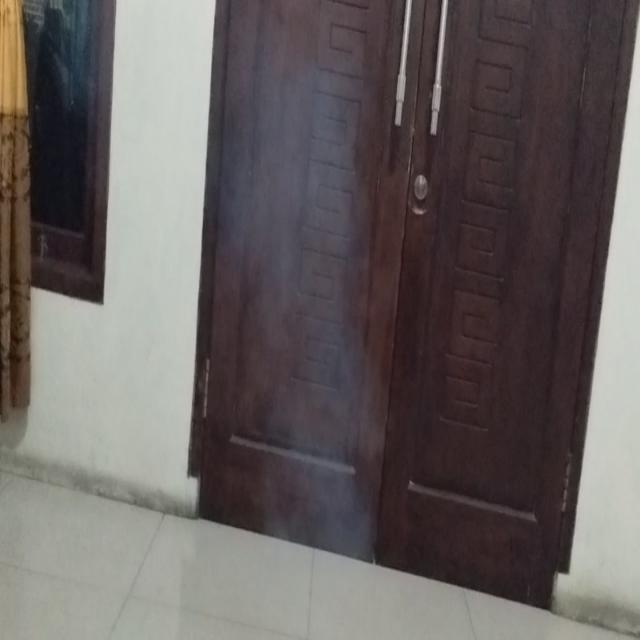smoke: (160, 70, 362, 550)
